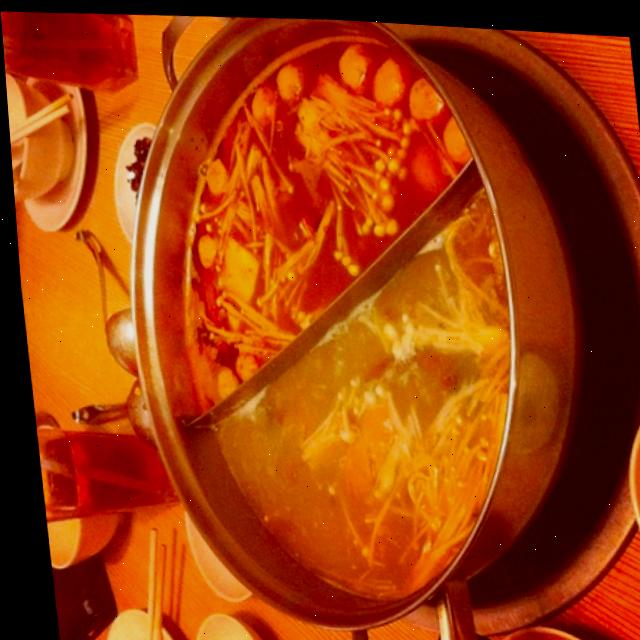汤锅炖物: (67, 3, 629, 640)
